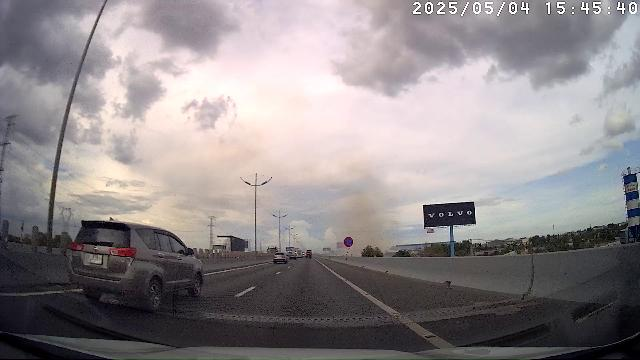130-cam-dung-va-do-xe: (343, 236, 354, 248)
